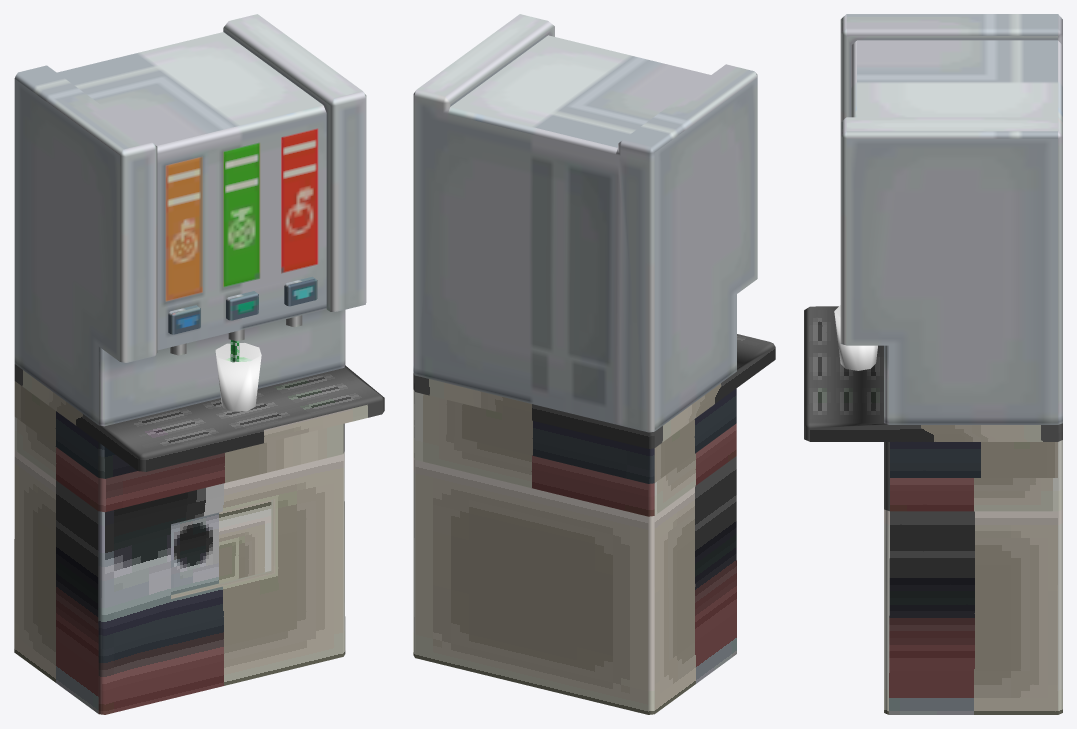
File: int_frs_drink.dae
3 renders of one model, left to right at view 1: azimuth 30°, elevation 25°; view 2: azimuth 150°, elevation 25°; view 3: azimuth 270°, elevation 25°, orthographic. The views are drawn at different scales.
Visible parts, largest first — view 1: int_frs_drink; view 2: int_frs_drink; view 3: int_frs_drink.
Boxes of the visible parts, x1,y1,x2,y2 form: int_frs_drink: (14, 14, 384, 714); int_frs_drink: (413, 14, 775, 714); int_frs_drink: (804, 14, 1062, 714).
Size of the model in its own units: 24 by 53.88 by 21.72.
Materials: 4 (3 with a texture image).
